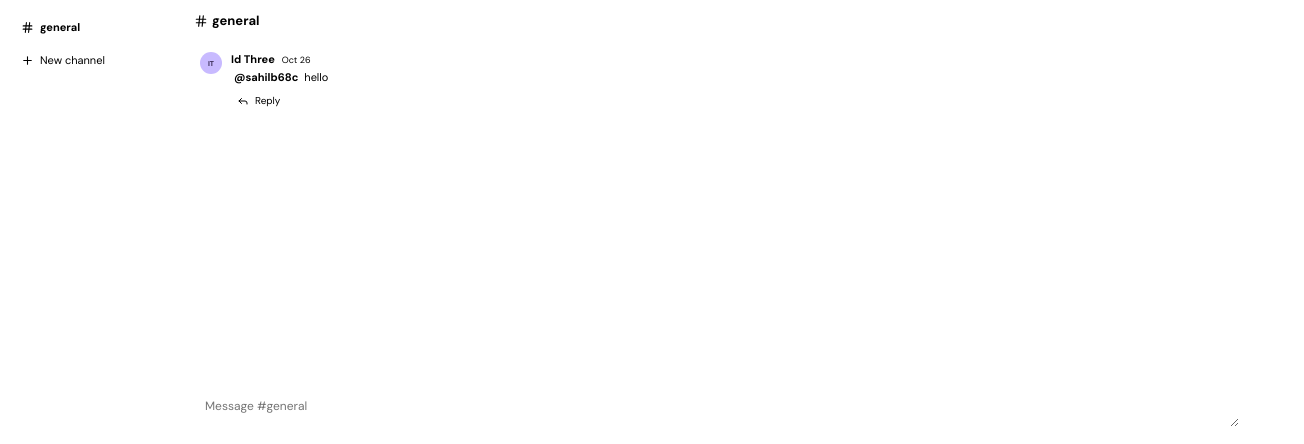
Test: Chat @mentions (US-18) › the thread reply box suggests members too
Click the button with aria-label "Reply in thread". click: (260, 100)
box: [231,90,288,111]
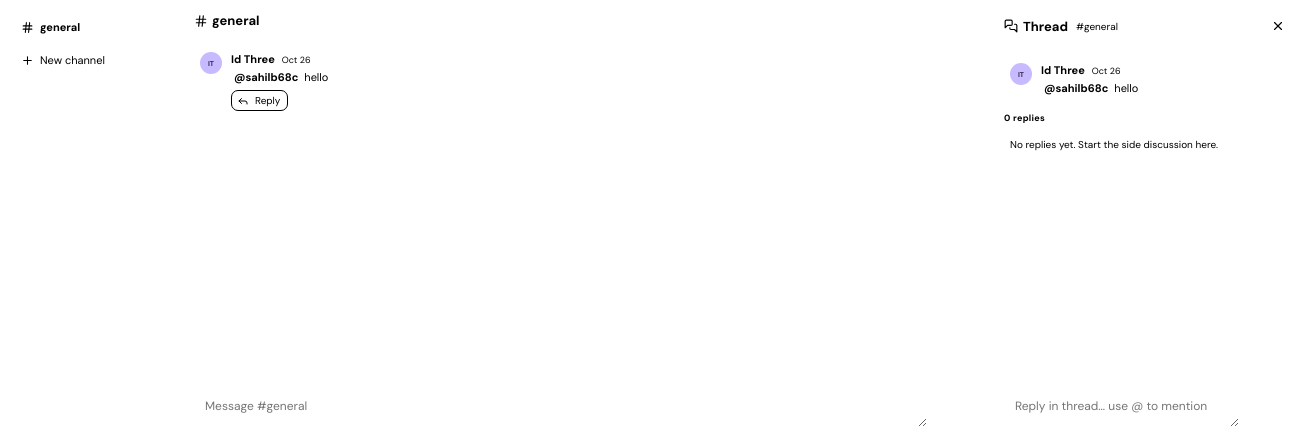
Type "@sa" into the dropdown labelled "Reply". click: (1122, 408)
box: [1004,389,1239,427]
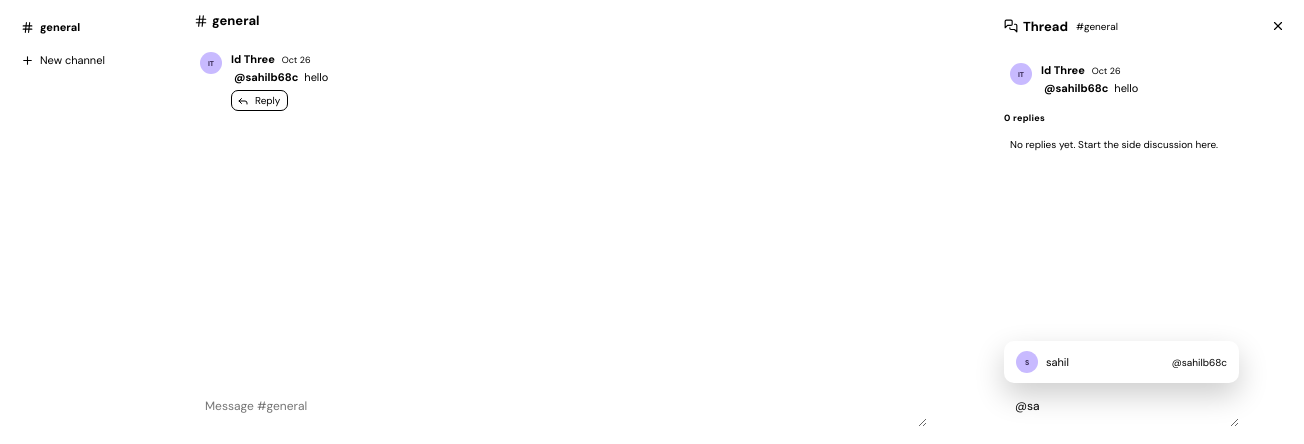
Expected: the list is shown, [1004,341,1239,383]
